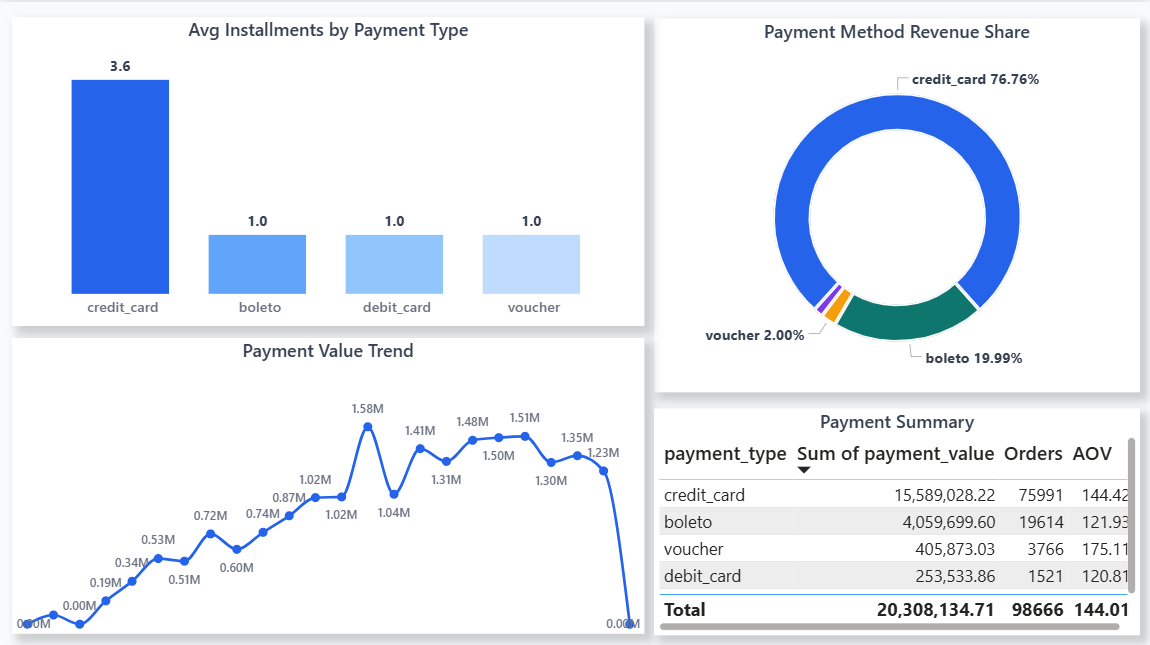

The page's visual inventory and layout, read from the dashboard file:
{"tool":"powerbi","page":{"name":"Payment","canvas":[1280,720],"ordinal":6},"visuals":[{"type":"donutChart","title":"Payment Method Revenue Share","fields":{"Category":["public bi_fact_sales.payment_type"],"Y":["Sum(public bi_fact_sales.payment_value)"]},"box":[726.7,18.3,540,415],"z":0},{"type":"columnChart","title":"Avg Installments by Payment Type","fields":{"Category":["public bi_fact_sales.payment_type"],"Y":["public bi_fact_sales.Avg Installments"]},"box":[13,16.2,702.7,343.3],"z":1000},{"type":"lineChart","title":"Payment Value Trend","fields":{"Category":["DimDate.Year-Month"],"Y":["Sum(public bi_fact_sales.payment_value)"]},"box":[13,374,702.7,328.7],"z":2000},{"type":"tableEx","title":"Payment Summary","fields":{"Values":["public bi_fact_sales.payment_type","Sum(public bi_fact_sales.payment_value)","public bi_fact_sales.Orders","public bi_fact_sales.AOV"]},"box":[726.7,451.7,540,251.7],"z":3000}]}

Visuals, with their boxes in screenshot pixels (x1, y1, x2, y2), scaled from the page's 1280x720 canvas onto the 1150x645 screenshot:
"Payment Method Revenue Share" donutChart: pyautogui.locateOnScreen(653, 16, 1138, 388)
"Avg Installments by Payment Type" columnChart: pyautogui.locateOnScreen(12, 15, 643, 322)
"Payment Value Trend" lineChart: pyautogui.locateOnScreen(12, 335, 643, 630)
"Payment Summary" tableEx: pyautogui.locateOnScreen(653, 405, 1138, 630)
